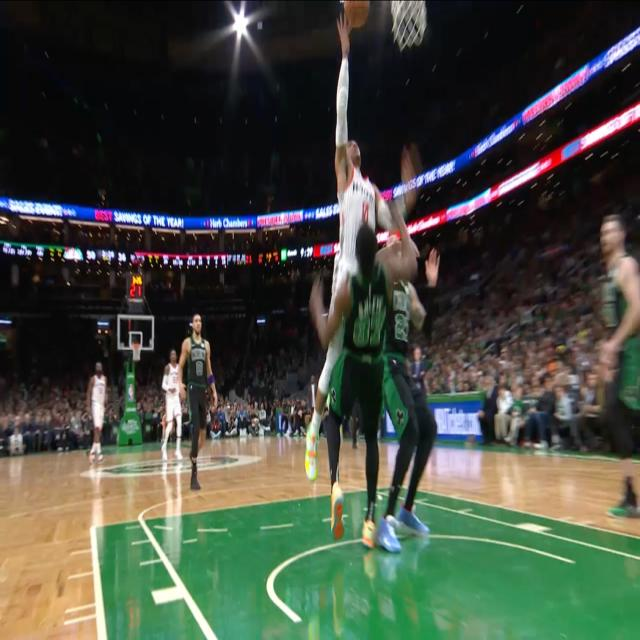Foul: (332, 180, 383, 406)
